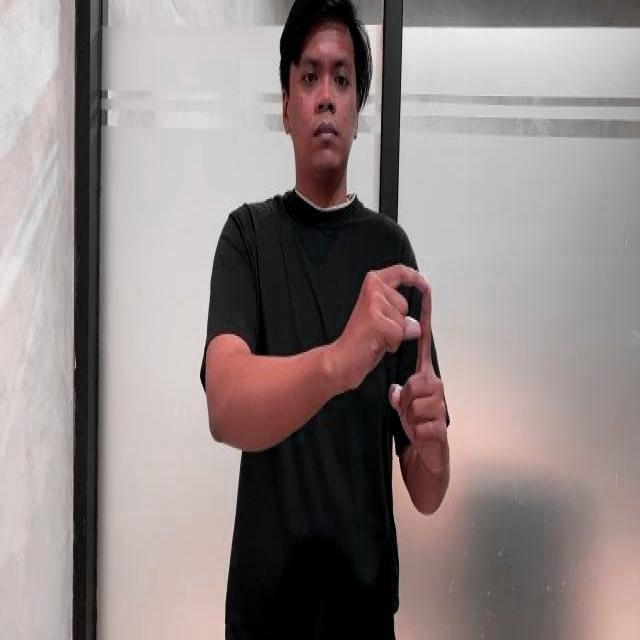P: (359, 244, 444, 449)
